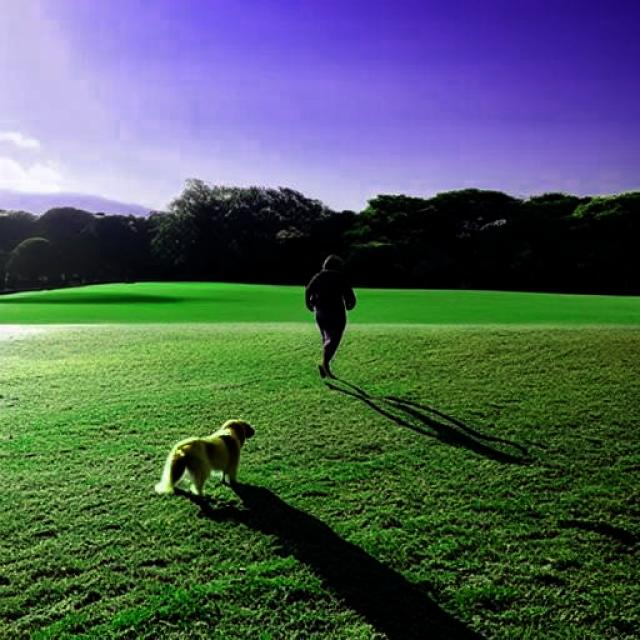Unleashed_Dog: (155, 316, 347, 495)
